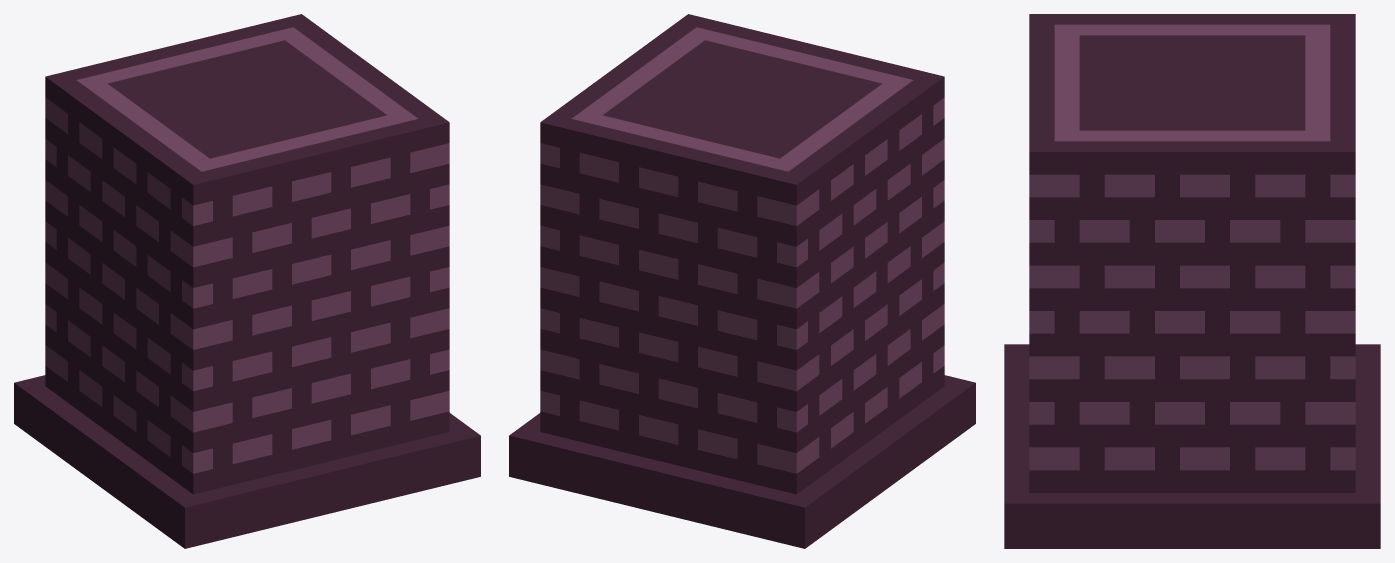
File: dungeon_c_a_inner_wall_solo.obj
The picture shows the model from 3 angles, left to right: view 1: azimuth 30°, elevation 25°; view 2: azimuth 150°, elevation 25°; view 3: azimuth 270°, elevation 25°; orthographic projection. The views are drawn at different scales.
Size of the model in its own units: 1.5 by 1.7 by 1.5.
Materials: 1 (1 with a texture image).
